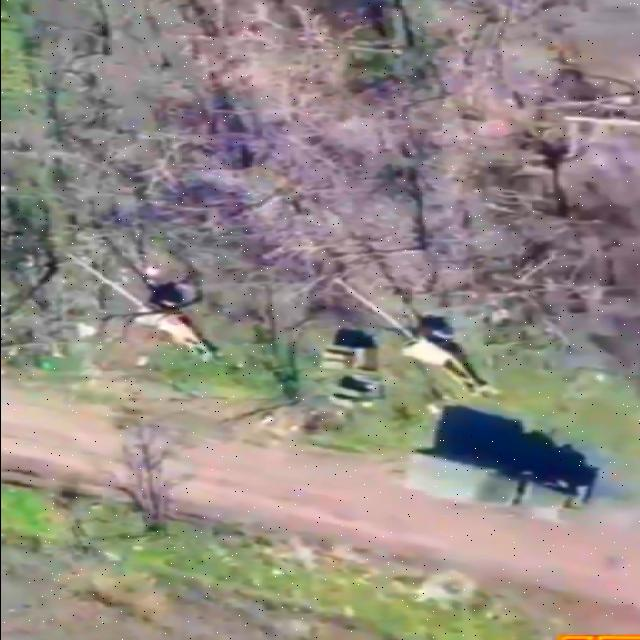ART: (328, 276, 492, 394), (56, 251, 220, 361)
TRUCK: (396, 448, 590, 522)
